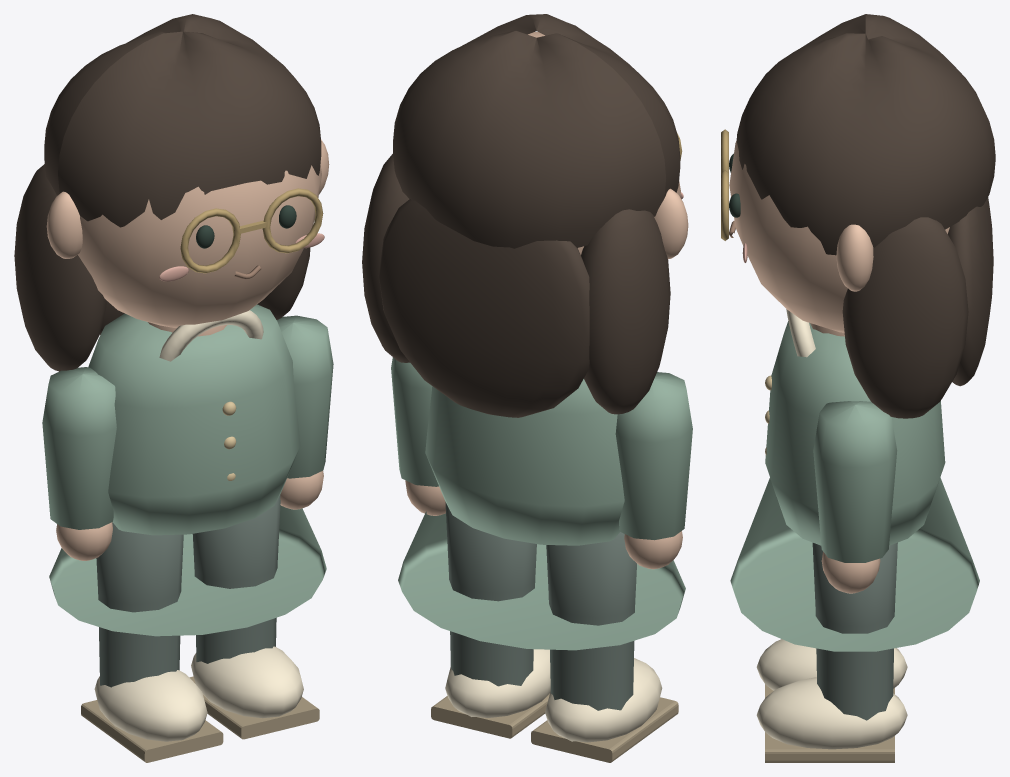
The model's file is avatar.glb.
3 views of the same model, side by side, from view 1: azimuth 30°, elevation 25°; view 2: azimuth 150°, elevation 25°; view 3: azimuth 270°, elevation 25° (orthographic). The views are drawn at different scales.
Parts seen in each view (by area): view 1: hips, legL, legR, skirt, longHair, armL, armR, glasses; view 2: hips, longHair, legL, skirt, legR, armL, armR; view 3: hips, longHair, skirt, legR, armR, legL, glasses.
Part boxes in pixels (bbox=[...]): hips: bbox=[44, 14, 329, 535]; legL: bbox=[81, 522, 223, 762]; legR: bbox=[189, 495, 319, 739]; skirt: bbox=[49, 505, 326, 636]; longHair: bbox=[14, 164, 310, 371]; armL: bbox=[42, 367, 116, 560]; armR: bbox=[276, 315, 333, 509]; glasses: bbox=[180, 188, 323, 273]; hips: bbox=[393, 14, 688, 545]; longHair: bbox=[362, 154, 670, 417]; legL: bbox=[531, 532, 678, 762]; skirt: bbox=[398, 511, 685, 650]; legR: bbox=[431, 502, 550, 738]; armL: bbox=[615, 372, 692, 569]; armR: bbox=[391, 357, 445, 515]; hips: bbox=[729, 14, 995, 545]; longHair: bbox=[842, 197, 993, 418]; skirt: bbox=[730, 477, 979, 651]; legR: bbox=[756, 542, 907, 762]; armR: bbox=[813, 401, 897, 593]; legL: bbox=[756, 639, 907, 697]; glasses: bbox=[721, 129, 728, 240].
Size of the model in its own units: 0.7802 by 1.82 by 0.6545.
